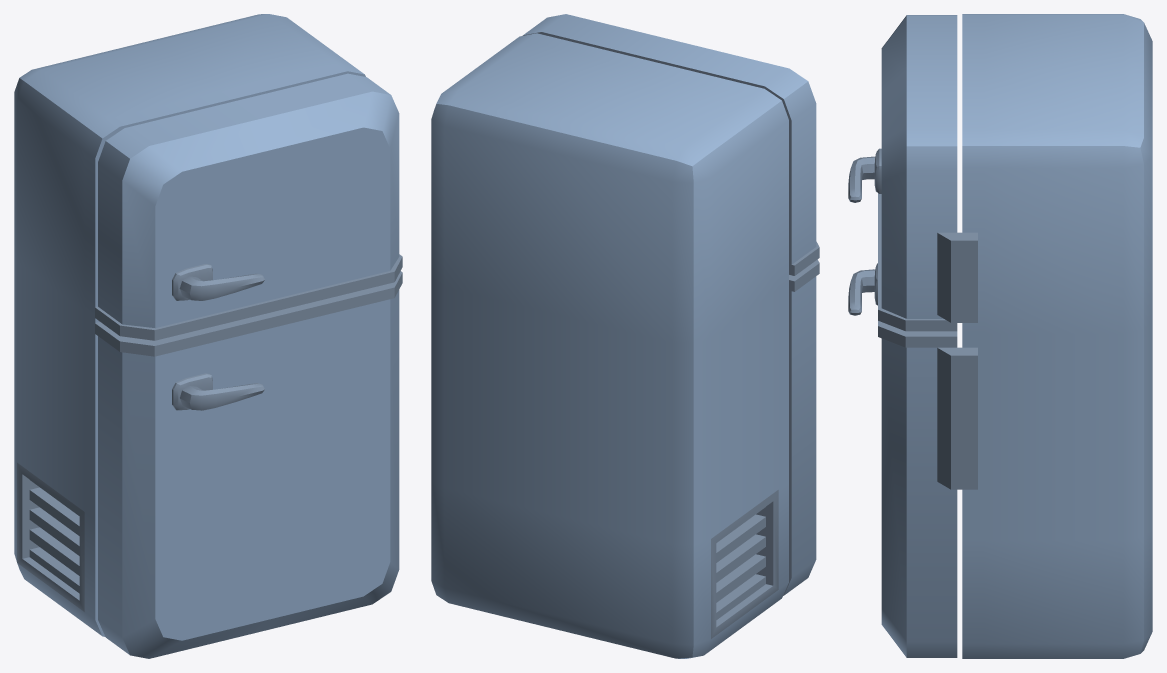
File: fridge.glb
3 renders of one model, left to right at view 1: azimuth 30°, elevation 25°; view 2: azimuth 150°, elevation 25°; view 3: azimuth 270°, elevation 25°, orthographic. The views are drawn at different scales.
Visible parts, largest first — view 1: Environment_Fridge; view 2: Environment_Fridge; view 3: Environment_Fridge.
Part boxes in pixels (left/top/right/bottom): Environment_Fridge: left=14, top=14, right=402, bottom=658; Environment_Fridge: left=431, top=14, right=819, bottom=658; Environment_Fridge: left=848, top=14, right=1152, bottom=658.
Bounding box in the file's own units: 2.52 × 4.18 × 2.18.
1 material, 1 textured.
